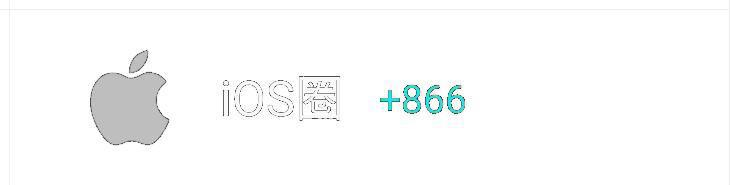CheckedTextView: (1, 1, 729, 184)
